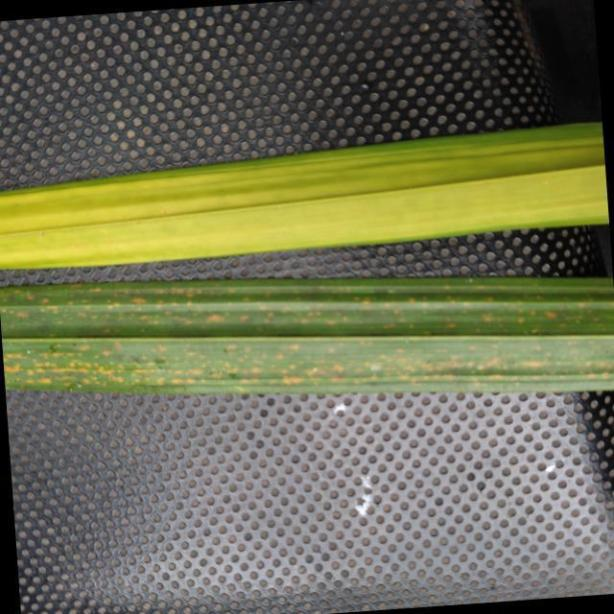nitrogen: (0, 126, 614, 267), (3, 278, 614, 395)
